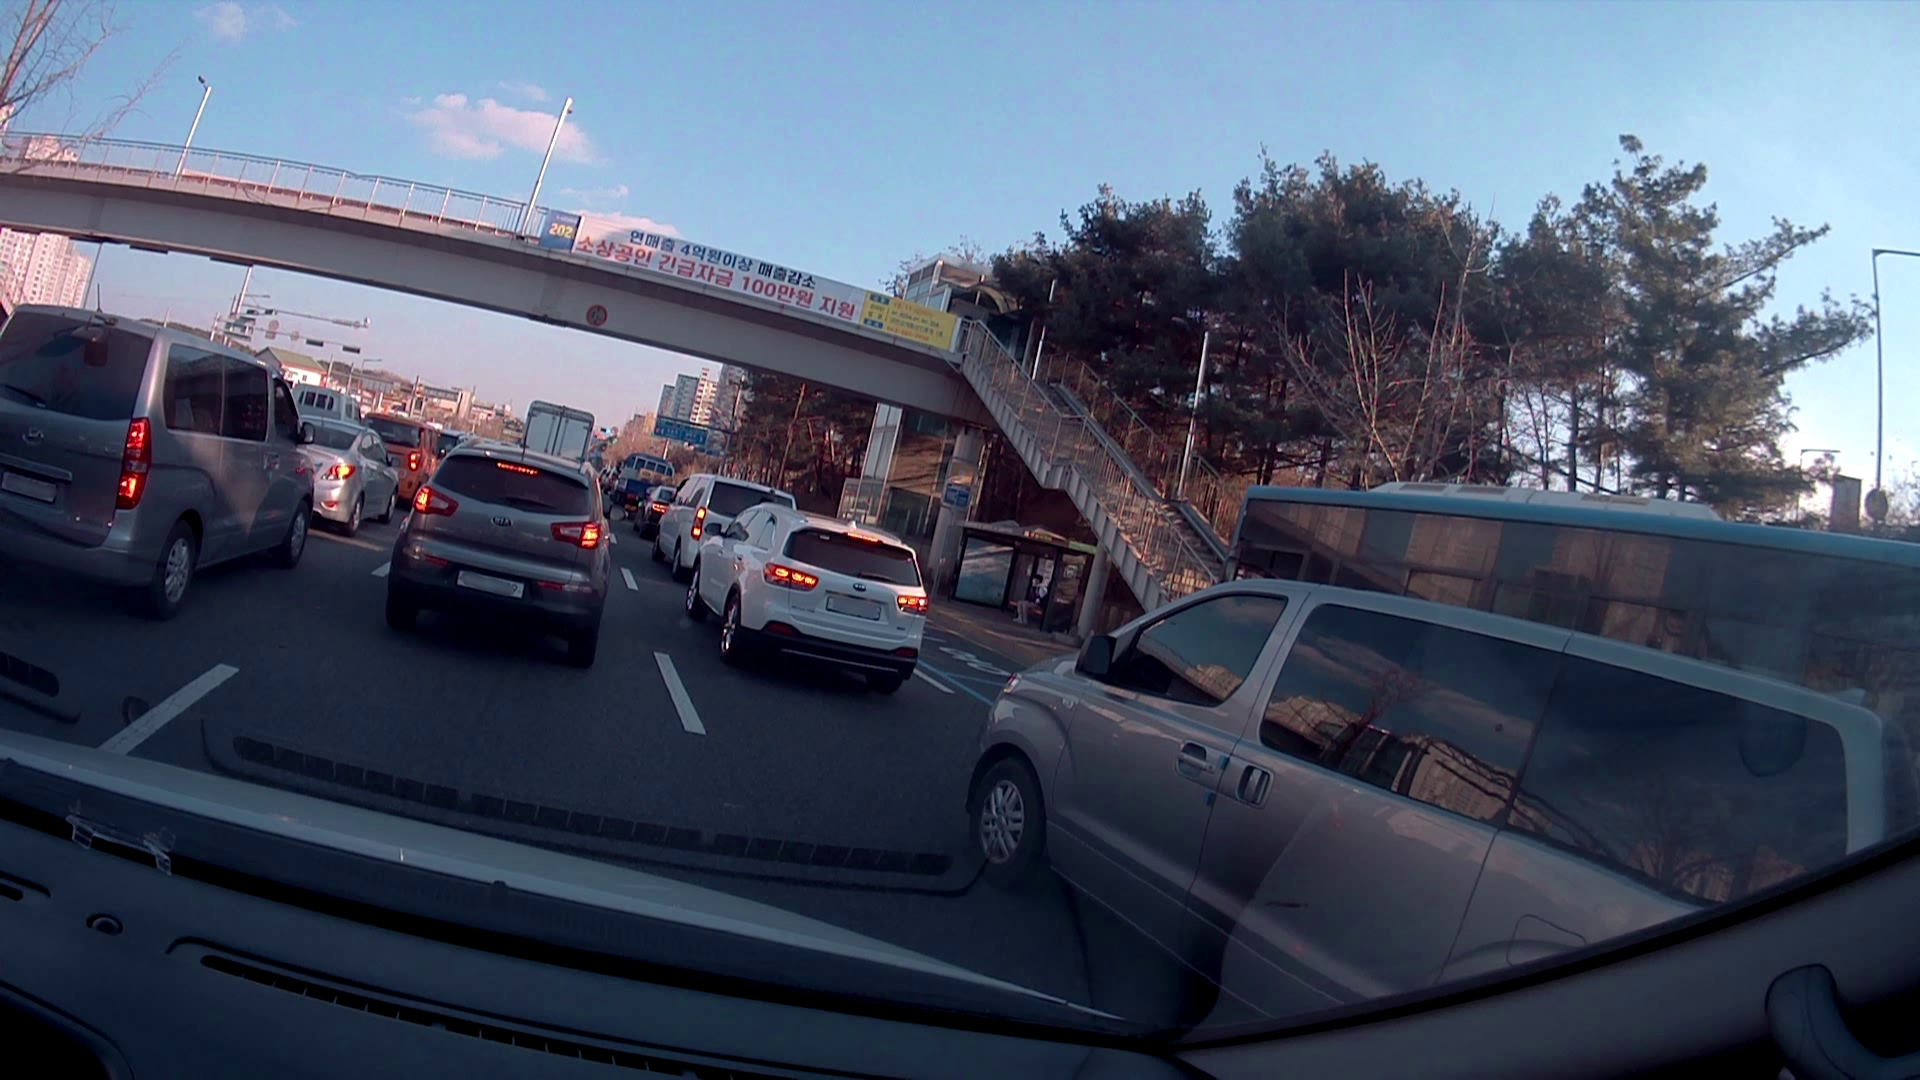trafficLight: (593, 425, 618, 436)
